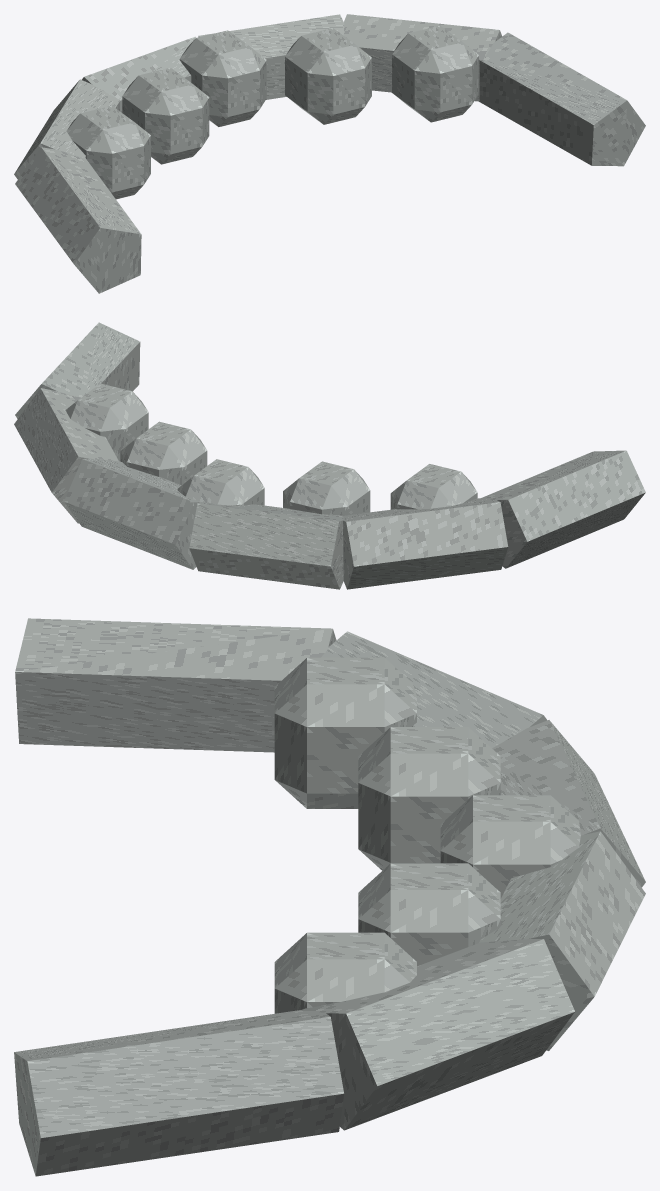
Rendered from diamond_dental_grill.glb.
The picture shows the model from 3 angles, top to bottom: view 1: azimuth 30°, elevation 25°; view 2: azimuth 150°, elevation 25°; view 3: azimuth 270°, elevation 25°; orthographic projection. The views are drawn at different scales.
Visible parts, largest first — view 1: block_tooth cap (×5), block_dental curve 5, block_dental curve 0, block_dental curve 4, block_dental curve 3, block_dental curve 1, block_dental curve 2; view 2: block_tooth cap (×5), block_dental curve 1, block_dental curve 2, block_dental curve 0, block_dental curve 3, block_dental curve 4, block_dental curve 5; view 3: block_tooth cap (×5), block_dental curve 5, block_dental curve 0, block_dental curve 4, block_dental curve 3, block_dental curve 2, block_dental curve 1.
Part boxes in pixels (left/top/right/bottom): block_tooth cap (×5): left=66, top=25, right=478, bottom=199; block_dental curve 5: left=479, top=32, right=645, bottom=166; block_dental curve 0: left=15, top=147, right=141, bottom=293; block_dental curve 4: left=343, top=14, right=502, bottom=101; block_dental curve 3: left=198, top=14, right=344, bottom=99; block_dental curve 1: left=14, top=79, right=119, bottom=179; block_dental curve 2: left=82, top=36, right=196, bottom=112; block_tooth cap (×5): left=65, top=383, right=477, bottom=515; block_dental curve 1: left=343, top=498, right=508, bottom=589; block_dental curve 2: left=189, top=502, right=343, bottom=589; block_dental curve 0: left=482, top=450, right=645, bottom=568; block_dental curve 3: left=64, top=458, right=200, bottom=569; block_dental curve 4: left=14, top=388, right=118, bottom=523; block_dental curve 5: left=15, top=322, right=140, bottom=418; block_tooth cap (×5): left=274, top=657, right=580, bottom=1013; block_dental curve 5: left=14, top=1010, right=344, bottom=1176; block_dental curve 0: left=15, top=618, right=336, bottom=752; block_dental curve 4: left=300, top=938, right=574, bottom=1130; block_dental curve 3: left=479, top=831, right=645, bottom=1050; block_dental curve 2: left=492, top=720, right=645, bottom=887; block_dental curve 1: left=321, top=631, right=547, bottom=748.
Bounding box in the file's own units: 0.0475 × 0.00686 × 0.0265.
1 material, 1 textured.
